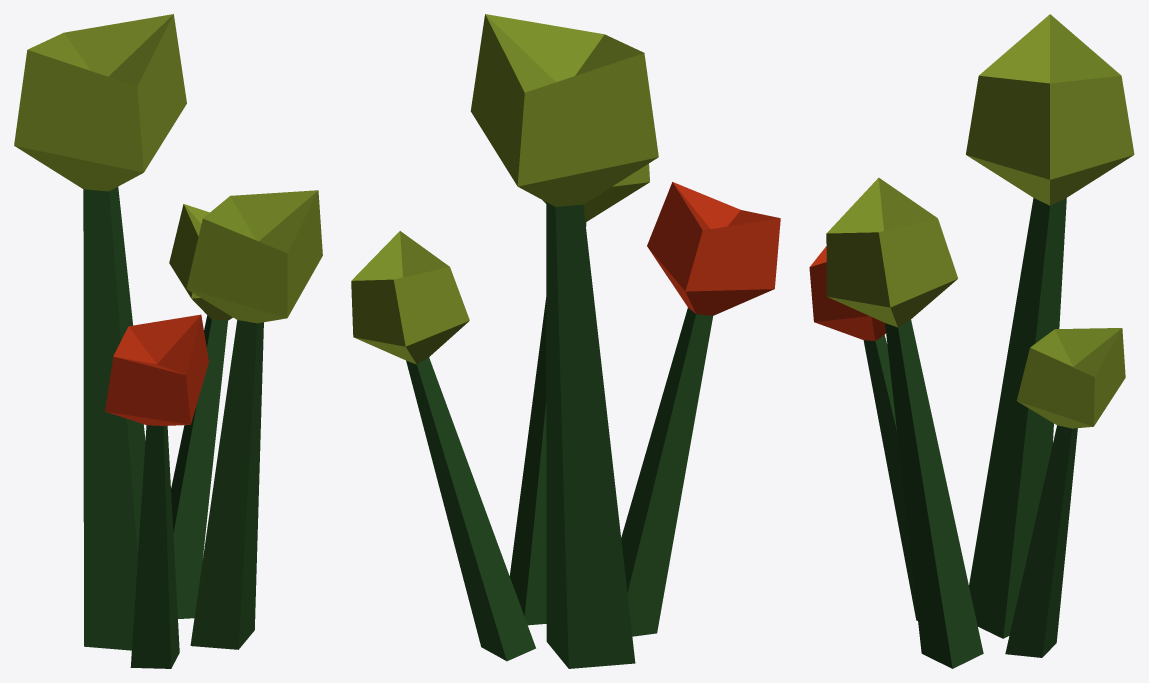
The model's file is flower3.FBX.
3 views of the same model, side by side, from view 1: azimuth 30°, elevation 25°; view 2: azimuth 150°, elevation 25°; view 3: azimuth 270°, elevation 25° (orthographic). The views are drawn at different scales.
Visible parts, largest first — view 1: flower3; view 2: flower3; view 3: flower3.
Part boxes in pixels (left/top/right/bottom): flower3: left=14, top=14, right=322, bottom=668; flower3: left=351, top=14, right=780, bottom=668; flower3: left=809, top=14, right=1134, bottom=668.
Size of the model in its own units: 10.22 by 11.05 by 21.41.
